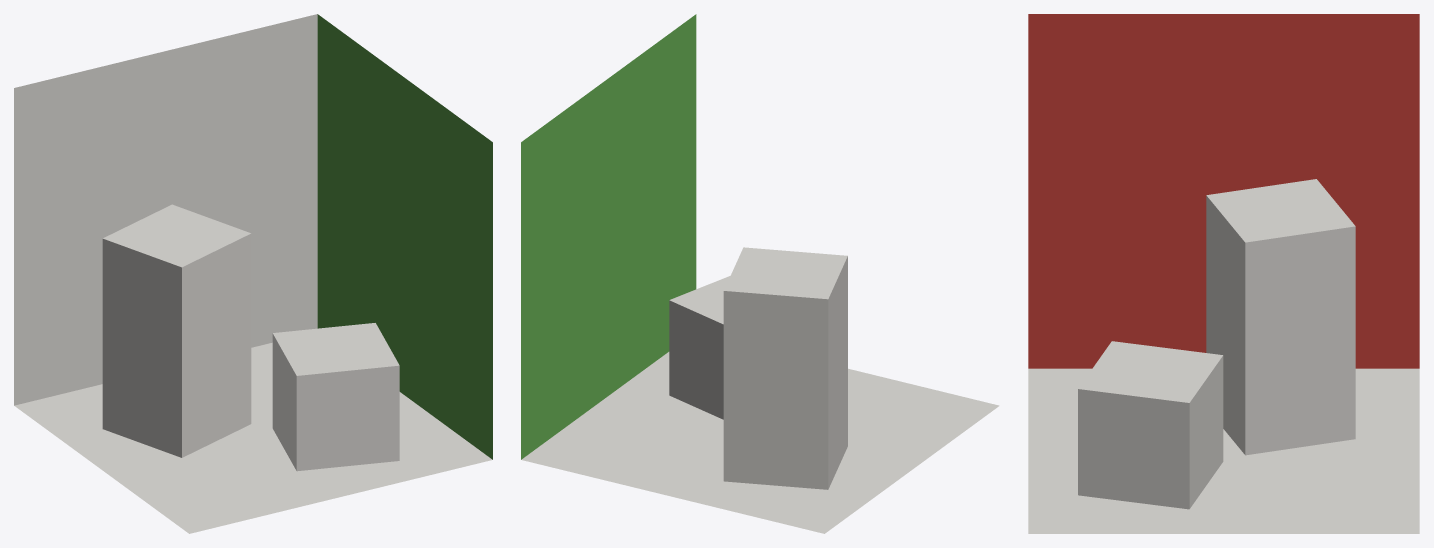
File: cornell_box_extended.glb
3 renders of one model, left to right at view 1: azimuth 30°, elevation 25°; view 2: azimuth 150°, elevation 25°; view 3: azimuth 270°, elevation 25°, orthographic. The views are drawn at different scales.
Parts seen in each view (by area): view 1: 02_BackWall, 03_RightWall, 06_TallBox, 00_Floor, 05_ShortBox; view 2: 03_RightWall, 00_Floor, 06_TallBox, 05_ShortBox; view 3: 04_LeftWall, 06_TallBox, 00_Floor, 05_ShortBox.
Boxes of the visible parts, bbox=[...] form: 02_BackWall: bbox=[14, 14, 317, 405]; 03_RightWall: bbox=[317, 14, 492, 459]; 06_TallBox: bbox=[102, 204, 251, 457]; 00_Floor: bbox=[14, 342, 492, 533]; 05_ShortBox: bbox=[272, 323, 399, 471]; 03_RightWall: bbox=[521, 14, 696, 459]; 00_Floor: bbox=[521, 352, 999, 533]; 06_TallBox: bbox=[723, 247, 847, 489]; 05_ShortBox: bbox=[669, 276, 730, 419]; 04_LeftWall: bbox=[1028, 14, 1419, 368]; 06_TallBox: bbox=[1206, 179, 1355, 455]; 00_Floor: bbox=[1028, 368, 1419, 533]; 05_ShortBox: bbox=[1078, 341, 1223, 509].
Size of the model in its own units: 2 by 2 by 2.
